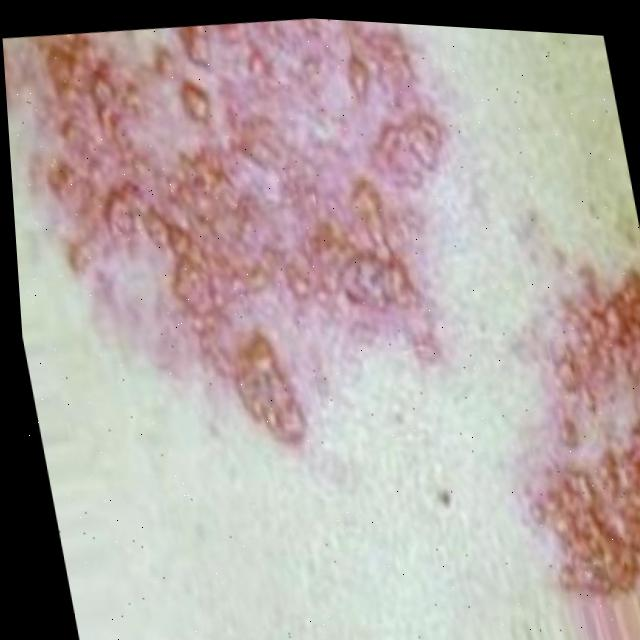Shingles: (0, 0, 490, 476), (469, 243, 640, 609)
